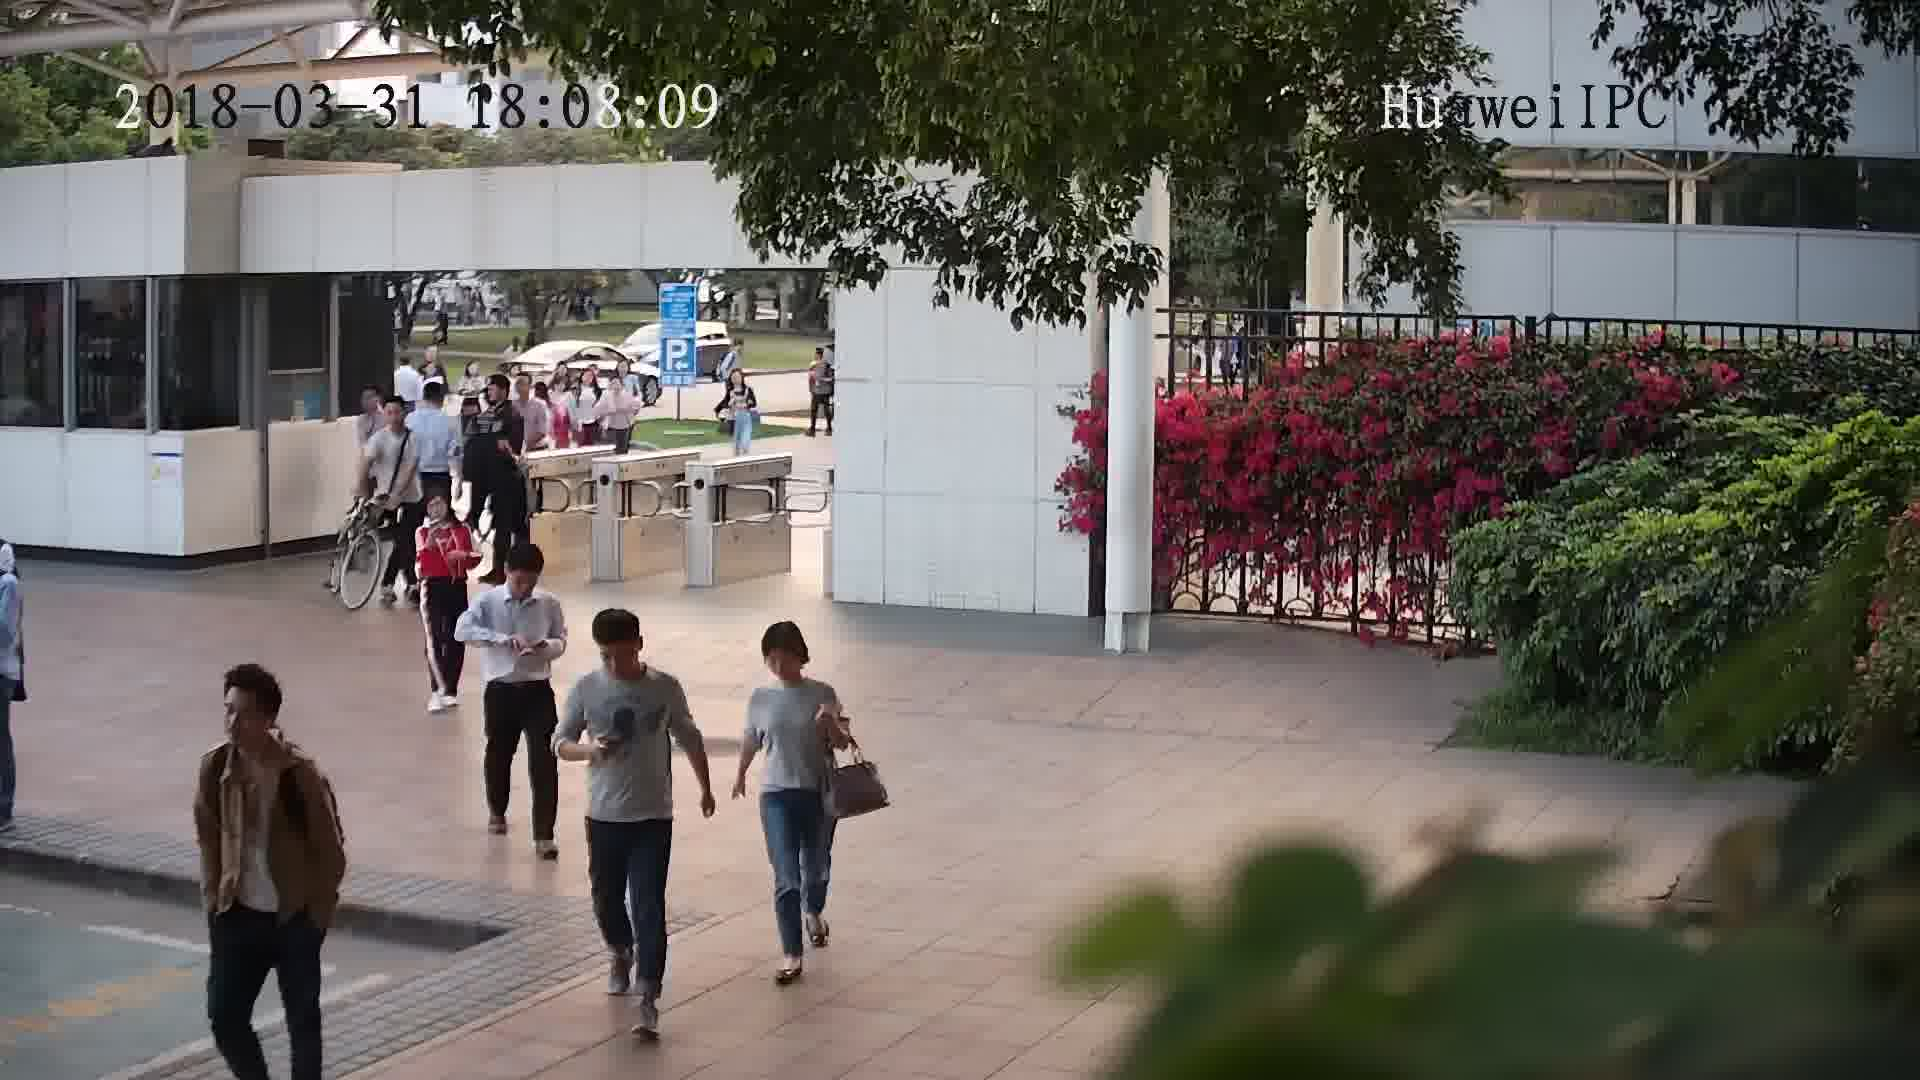face: (214, 685, 272, 743), (599, 636, 640, 677), (762, 643, 799, 680)
person: (197, 660, 324, 790), (571, 603, 688, 714), (742, 618, 836, 719), (470, 540, 563, 614), (410, 481, 474, 542), (368, 393, 418, 454), (410, 377, 458, 429), (509, 369, 551, 418), (482, 374, 525, 422), (452, 357, 485, 393), (722, 368, 755, 402), (572, 368, 600, 403)
